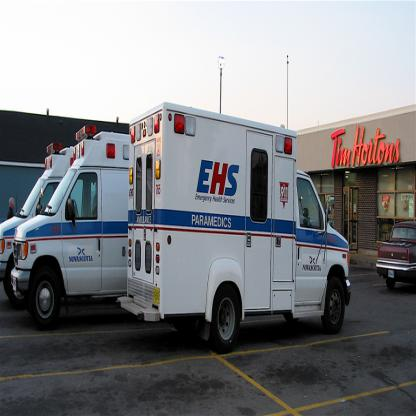Ambulance: (116, 54, 351, 354), (12, 126, 130, 328)
Car: (375, 221, 416, 290)
